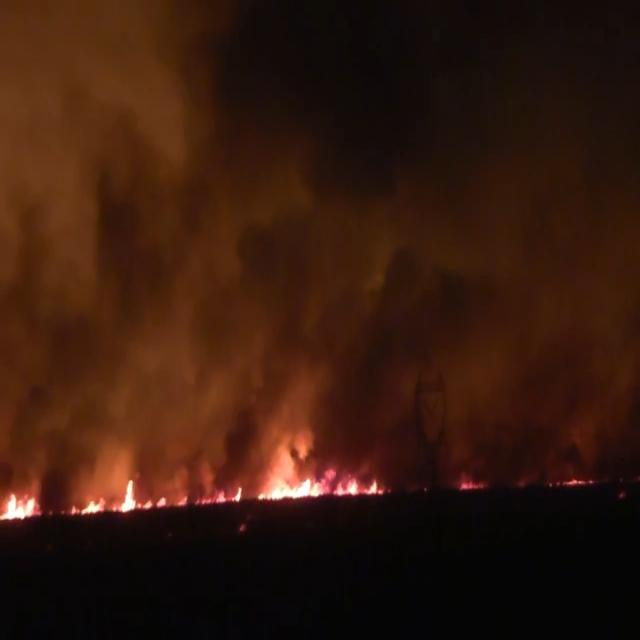Fire: (0, 437, 490, 523)
